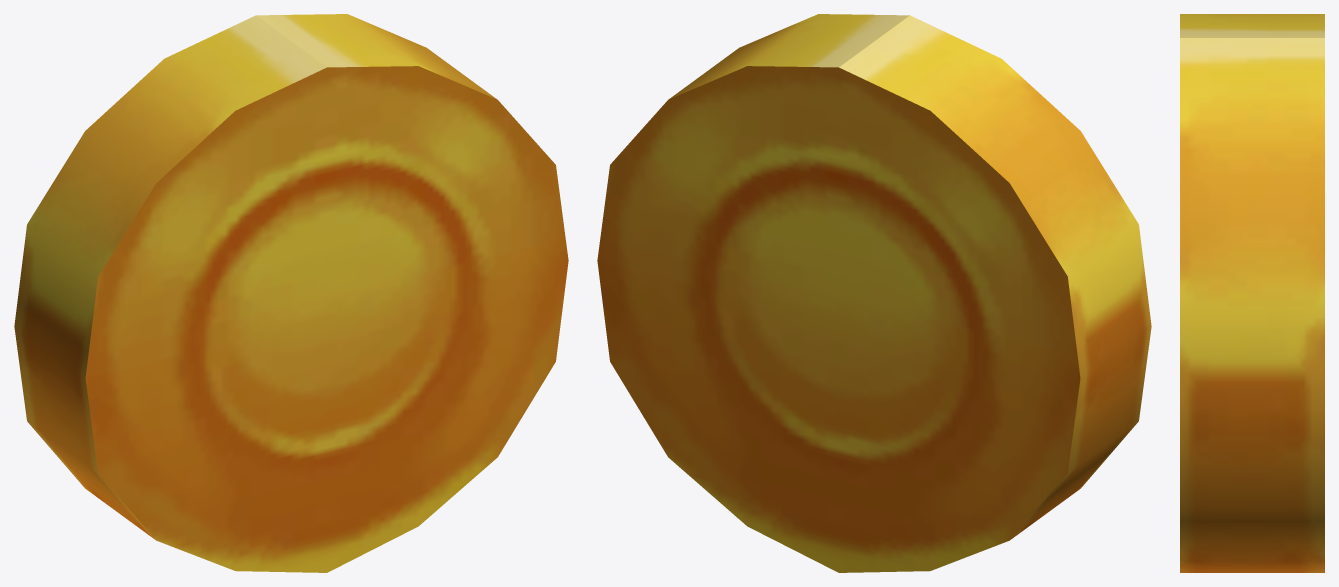
File: mdl_obj000d00_00.dae
3 renders of one model, left to right at view 1: azimuth 30°, elevation 25°; view 2: azimuth 150°, elevation 25°; view 3: azimuth 270°, elevation 25°, orthographic.
Visible parts, largest first — view 1: mdl_obj000d00_00_LOD0; view 2: mdl_obj000d00_00_LOD0; view 3: mdl_obj000d00_00_LOD0.
Boxes of the visible parts, x1,y1,x2,y2 form: mdl_obj000d00_00_LOD0: (14, 14, 568, 572); mdl_obj000d00_00_LOD0: (597, 14, 1151, 572); mdl_obj000d00_00_LOD0: (1180, 14, 1324, 572).
Size of the model in its own units: 41.88 by 10.69 by 41.88.
Materials: 1 (1 with a texture image).
